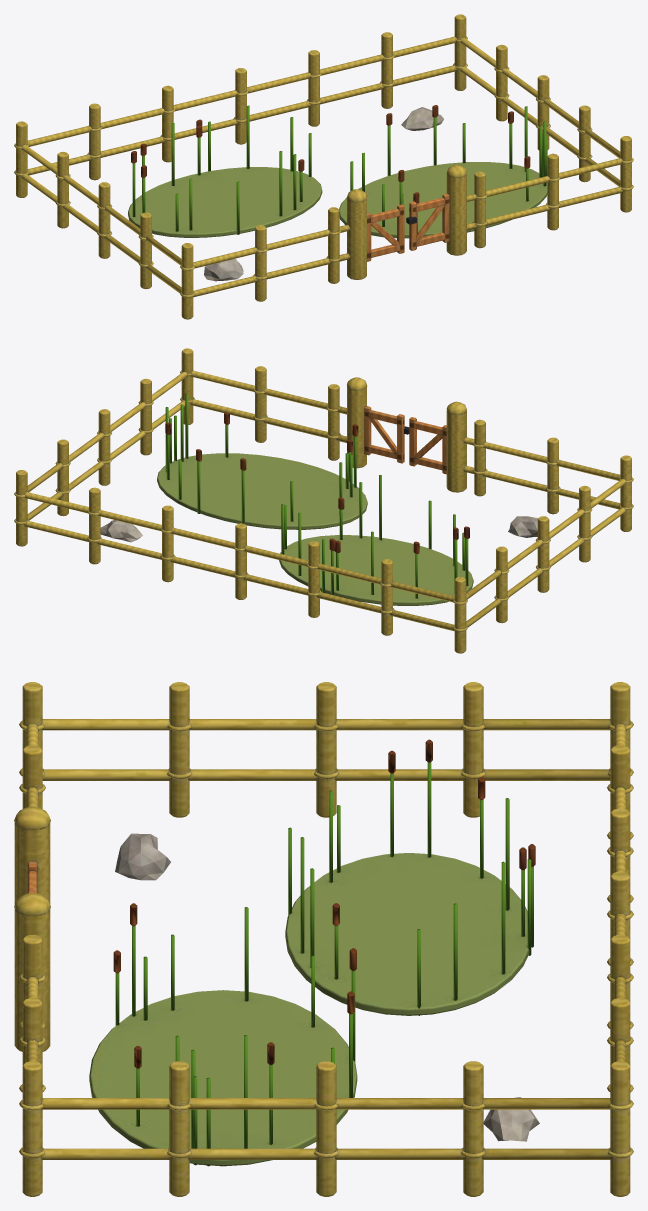
File: crane_marsh.glb
3 renders of one model, top to bottom at view 1: azimuth 30°, elevation 25°; view 2: azimuth 150°, elevation 25°; view 3: azimuth 270°, elevation 25°, orthographic. The views are drawn at different scales.
Visible parts, largest first — view 1: crane_marsh, gate1, gate0; view 2: crane_marsh, gate1, gate0; view 3: crane_marsh.
Part boxes in pixels (bbox=[...]): crane_marsh: bbox=[14, 14, 633, 319]; gate1: bbox=[406, 193, 449, 250]; gate0: bbox=[367, 204, 404, 261]; crane_marsh: bbox=[14, 348, 633, 653]; gate1: bbox=[364, 406, 409, 463]; gate0: bbox=[409, 417, 446, 474]; crane_marsh: bbox=[14, 682, 633, 1196].
Size of the model in its own units: 2.99 by 0.542 by 2.
Materials: 1 (1 with a texture image).
